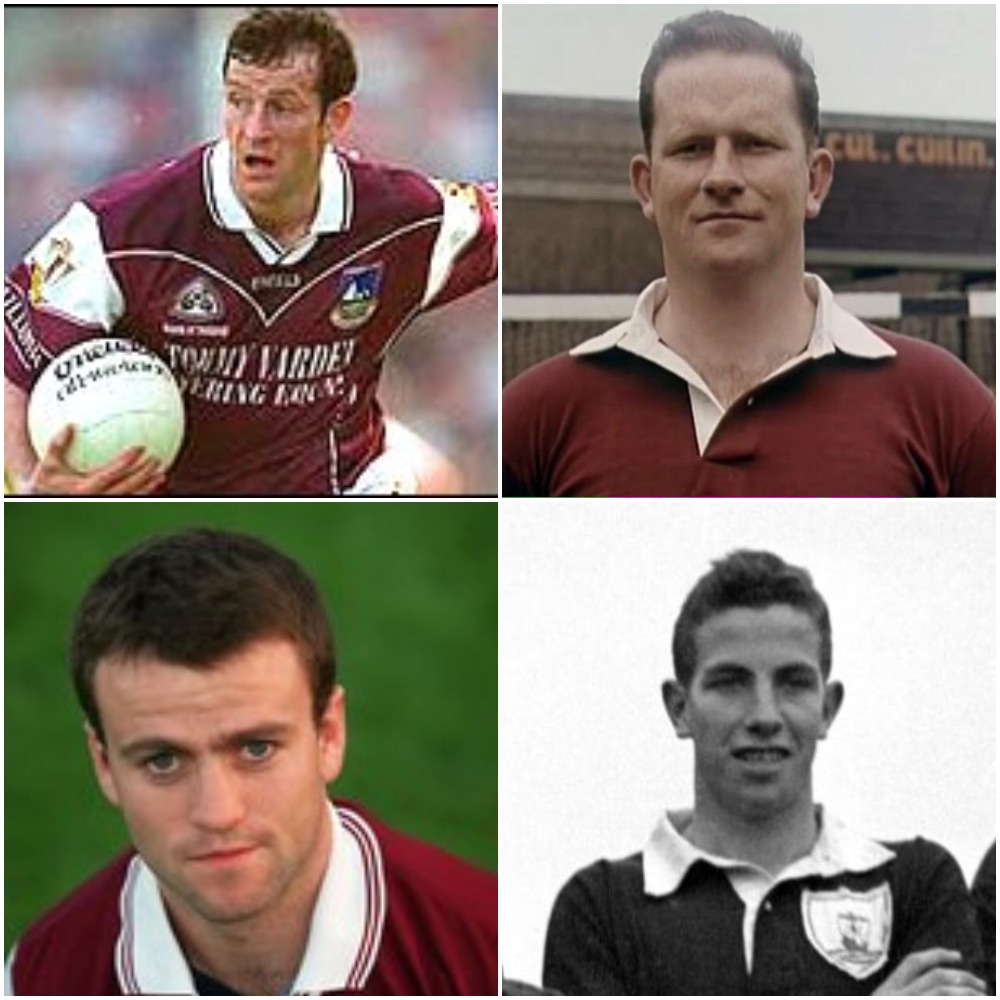ball: (28, 312, 192, 480)
player: (23, 16, 430, 492), (543, 19, 954, 466), (48, 528, 403, 951), (583, 557, 942, 950)
